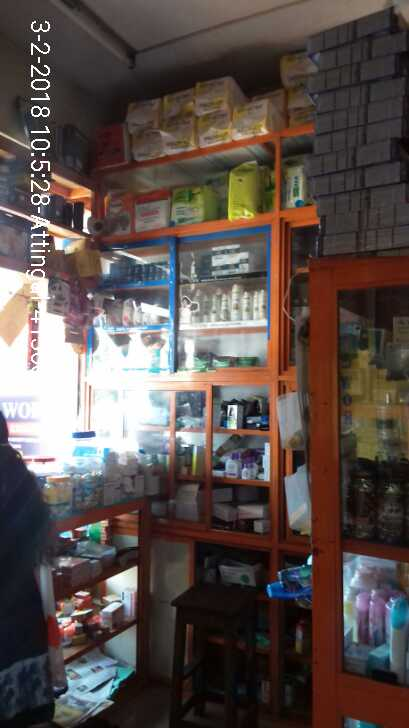vicks: (106, 255, 178, 287)
